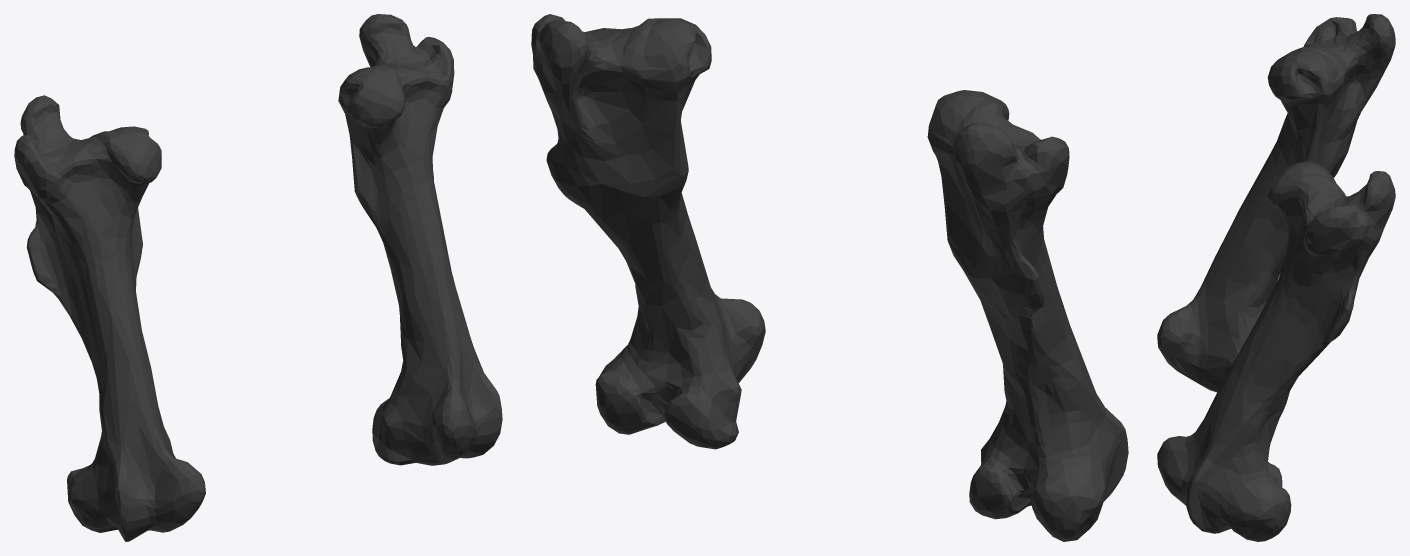
The model's file is skel_femur.glb.
3 views of the same model, side by side, from view 1: azimuth 30°, elevation 25°; view 2: azimuth 150°, elevation 25°; view 3: azimuth 270°, elevation 25° (orthographic). The views are drawn at different scales.
Visible parts, largest first — view 1: skel_femur; view 2: skel_femur; view 3: skel_femur.
Boxes of the visible parts, <box> form: skel_femur: <box>14,14,502,541</box>; skel_femur: <box>531,14,1128,541</box>; skel_femur: <box>1157,14,1395,541</box>.
Bounding box in the file's own units: 0.00801 × 0.00682 × 0.00406.
Materials: 1 (1 with a texture image).
